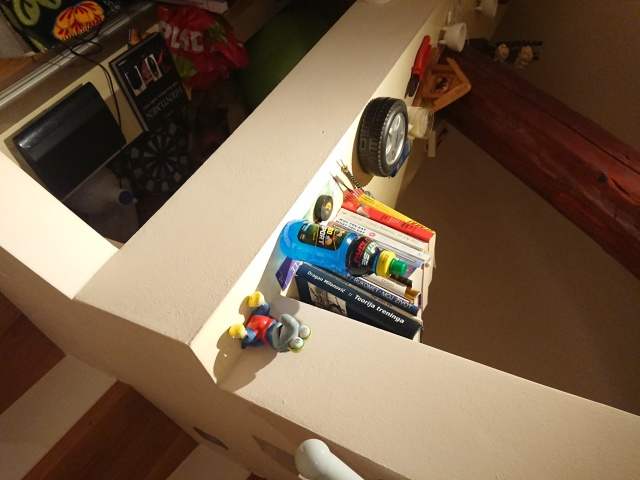Vindi Iso Sport Forest Strawberries 500mL: (278, 218, 409, 278)
